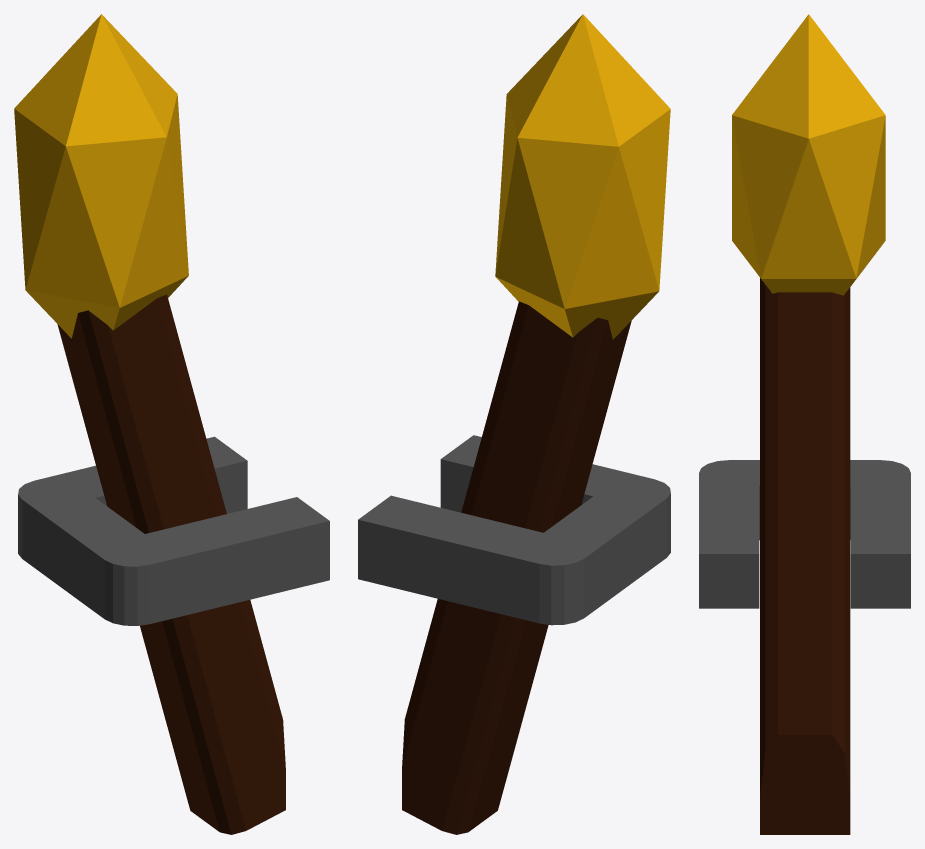
File: torch.fbx
The picture shows the model from 3 angles, left to right: view 1: azimuth 30°, elevation 25°; view 2: azimuth 150°, elevation 25°; view 3: azimuth 270°, elevation 25°; orthographic projection. The views are drawn at different scales.
Parts seen in each view (by area): view 1: Stick, Flame, Holder; view 2: Stick, Flame, Holder; view 3: Stick, Flame, Holder.
Part boxes in pixels (box(x1,y1,x2,y2)): Stick: box(57, 294, 285, 834); Flame: box(14, 14, 188, 338); Holder: box(18, 436, 329, 625); Stick: box(402, 301, 631, 834); Flame: box(495, 14, 670, 339); Holder: box(358, 435, 670, 625); Stick: box(760, 278, 850, 834); Flame: box(732, 14, 885, 295); Holder: box(699, 460, 910, 608).
Bounding box in the file's own units: 17.57 × 21.57 × 69.98.
